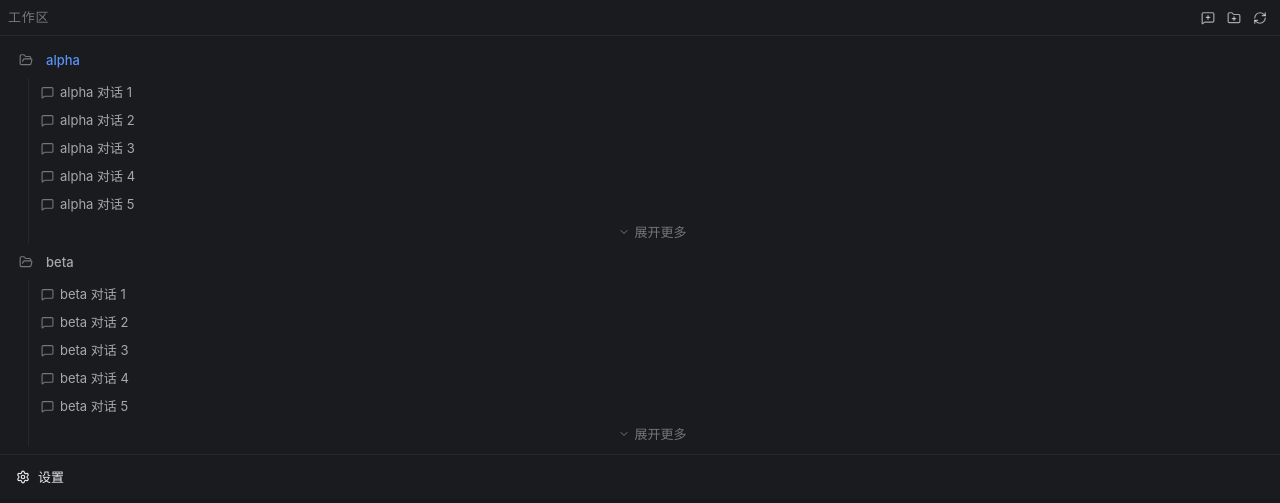
Test case: WorkspaceSidebar › 不同项目的对话展开状态相互独立
What coordinates should you click on to do the following:
click the button with aria-label "展开 alpha 的更多对话"
I would click on:
 (652, 232)
Its box is [33,220,1272,244].
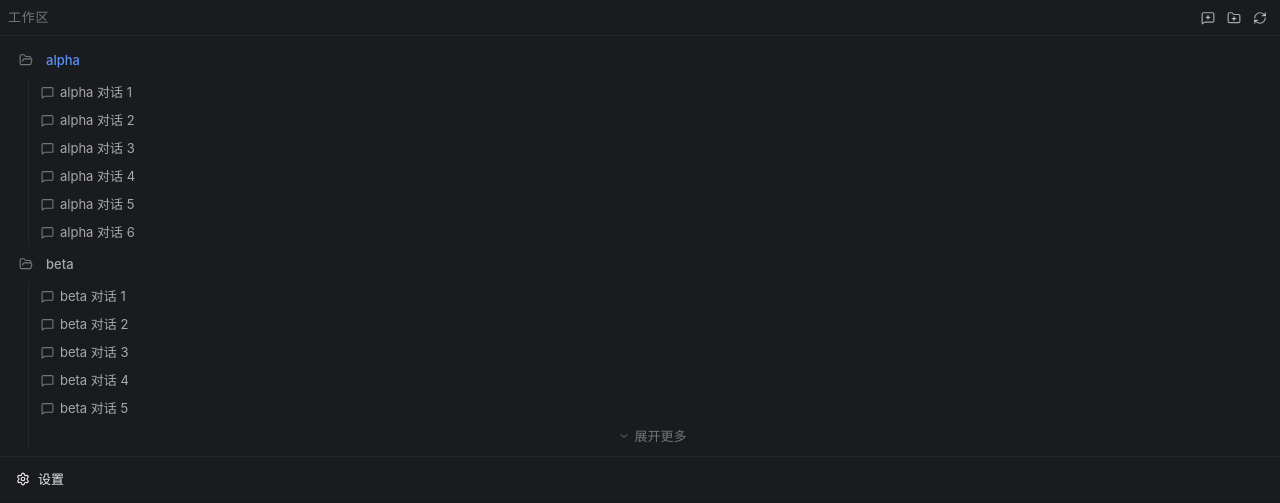
Expected: the text "alpha 对话 6" is shown, [60,224,135,240]
